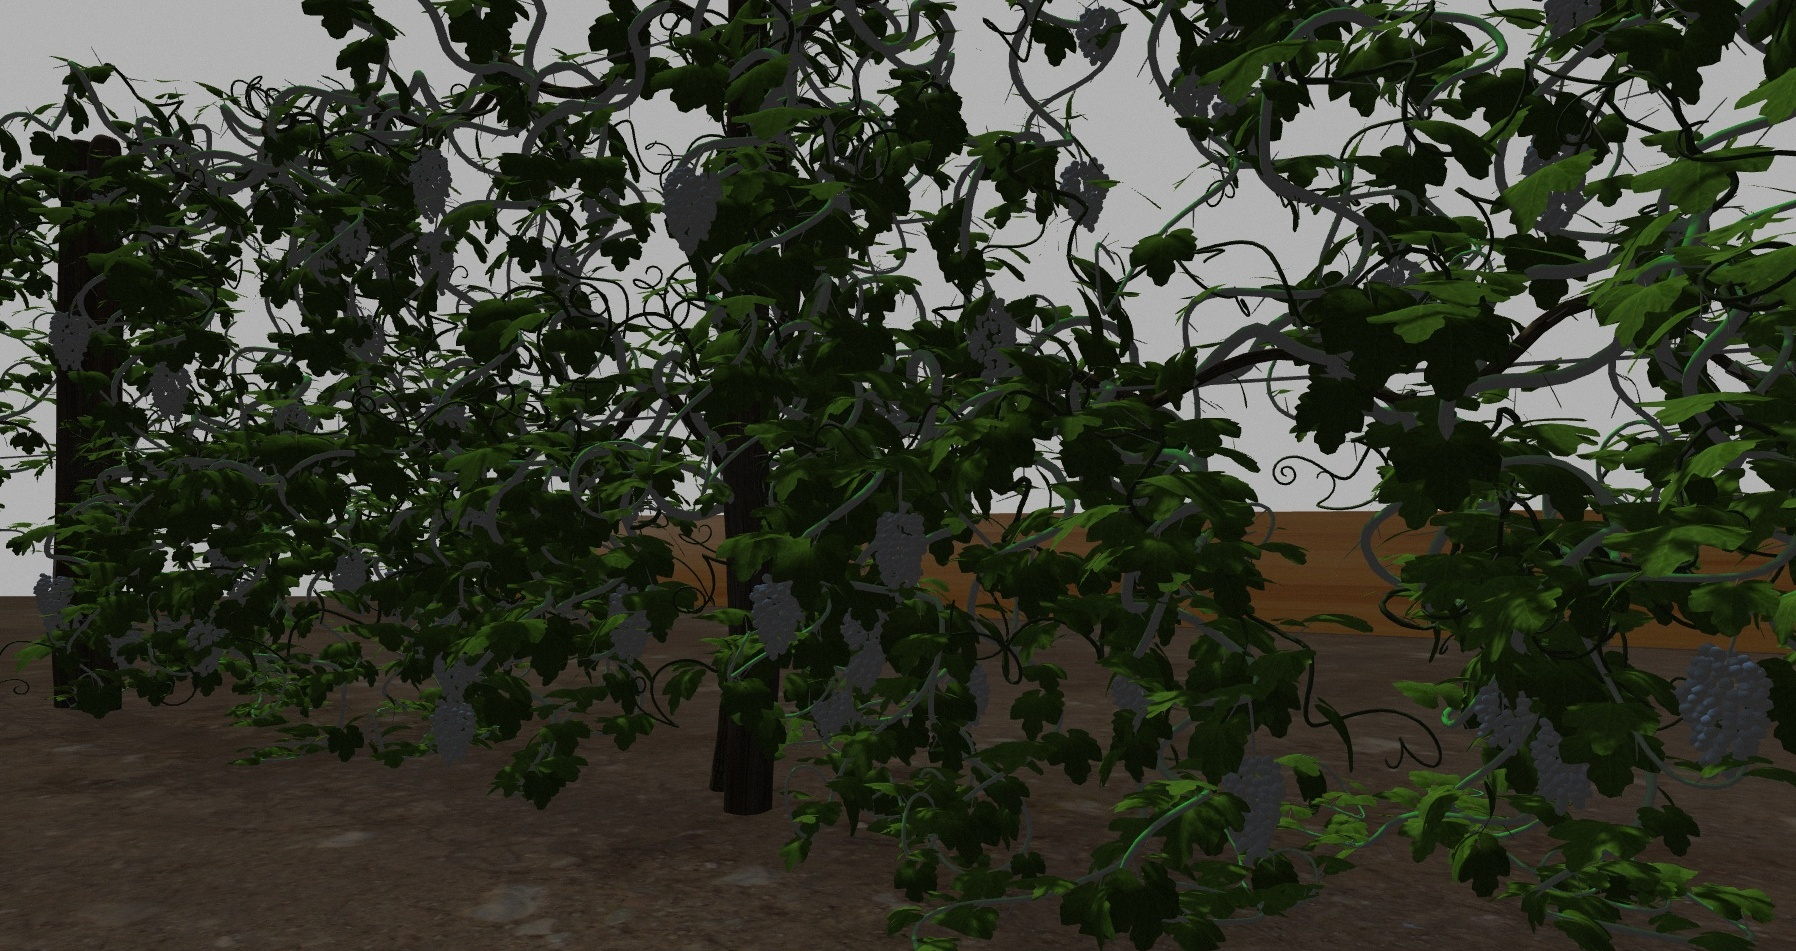grape: (1683, 647, 1777, 769), (1222, 752, 1288, 867), (1533, 719, 1595, 817), (869, 505, 930, 597), (747, 573, 807, 665), (662, 167, 722, 255), (1473, 674, 1535, 755), (839, 607, 890, 695), (965, 299, 1018, 378), (606, 583, 651, 667), (1062, 159, 1109, 233), (409, 144, 453, 223), (429, 702, 478, 767), (48, 310, 90, 373), (415, 230, 456, 294), (148, 362, 192, 421), (1077, 7, 1122, 64), (33, 572, 75, 629), (1109, 676, 1152, 730), (431, 647, 475, 699), (961, 664, 992, 730), (809, 695, 856, 737), (334, 220, 371, 265), (330, 554, 369, 594), (186, 619, 227, 649)
